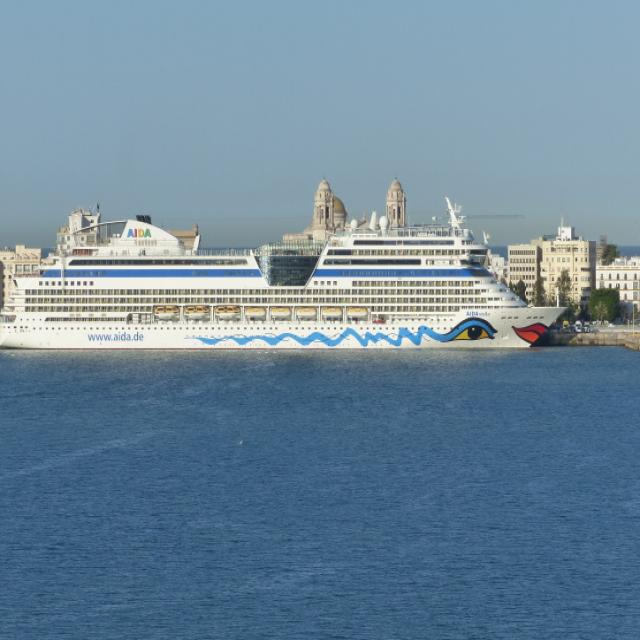cruises: (1, 217, 569, 355)
